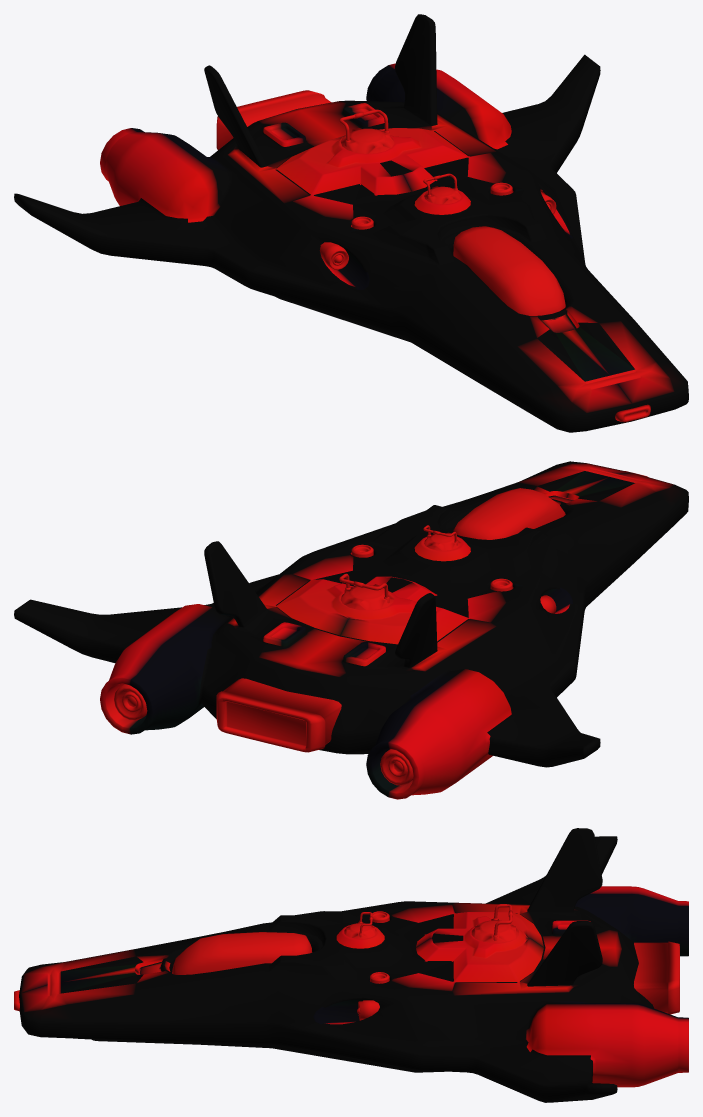
The model's file is Spaceship.fbx.
The picture shows the model from 3 angles, top to bottom: view 1: azimuth 30°, elevation 25°; view 2: azimuth 150°, elevation 25°; view 3: azimuth 270°, elevation 25°; orthographic projection. The views are drawn at different scales.
Visible parts, largest first — view 1: body_frame_low; view 2: body_frame_low; view 3: body_frame_low.
Part boxes in pixels (x1=…): body_frame_low: x1=14, y1=14, x2=688, y2=432; body_frame_low: x1=14, y1=461, x2=688, y2=799; body_frame_low: x1=14, y1=828, x2=688, y2=1102.
Size of the model in its own units: 222 by 254 by 63.29.
